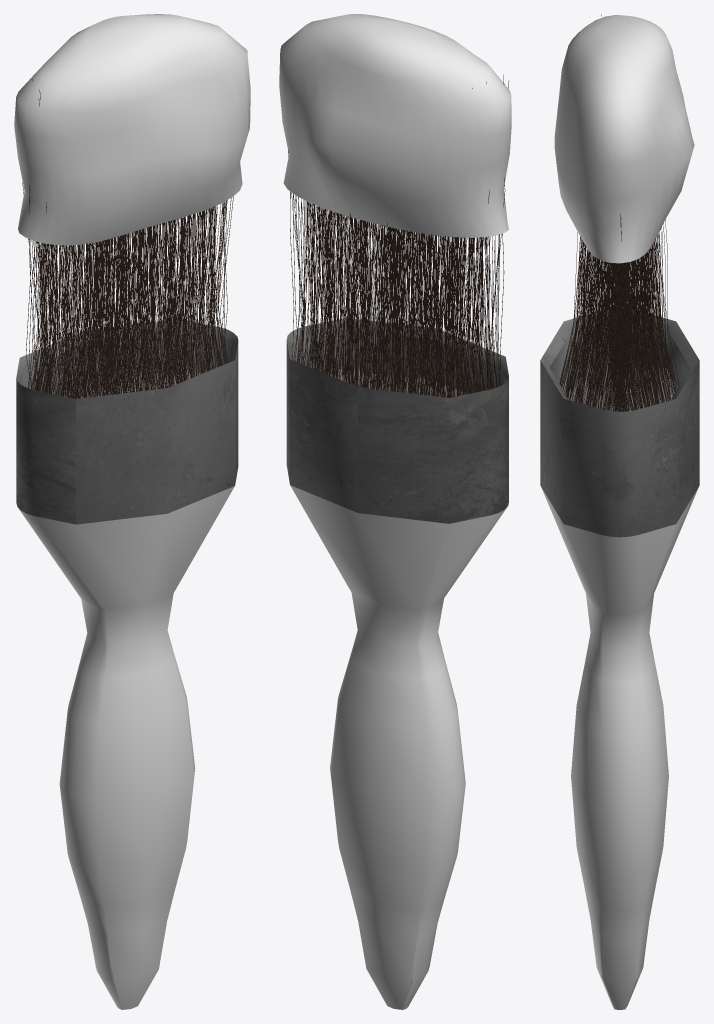
Rendered from BrushBigblend.fbx.
3 views of the same model, side by side, from view 1: azimuth 30°, elevation 25°; view 2: azimuth 150°, elevation 25°; view 3: azimuth 270°, elevation 25° (orthographic).
Parts seen in each view (by area): view 1: BrushBig, Sphere; view 2: BrushBig, Sphere; view 3: BrushBig, Sphere.
Part boxes in pixels (x1,y1,x2,y2): BrushBig: (16, 75, 238, 1009); Sphere: (14, 14, 250, 245); BrushBig: (286, 75, 508, 1009); Sphere: (279, 14, 511, 237); BrushBig: (540, 14, 699, 1009); Sphere: (554, 15, 694, 263).
Size of the model in its own units: 11.47 by 47.31 by 6.99.
